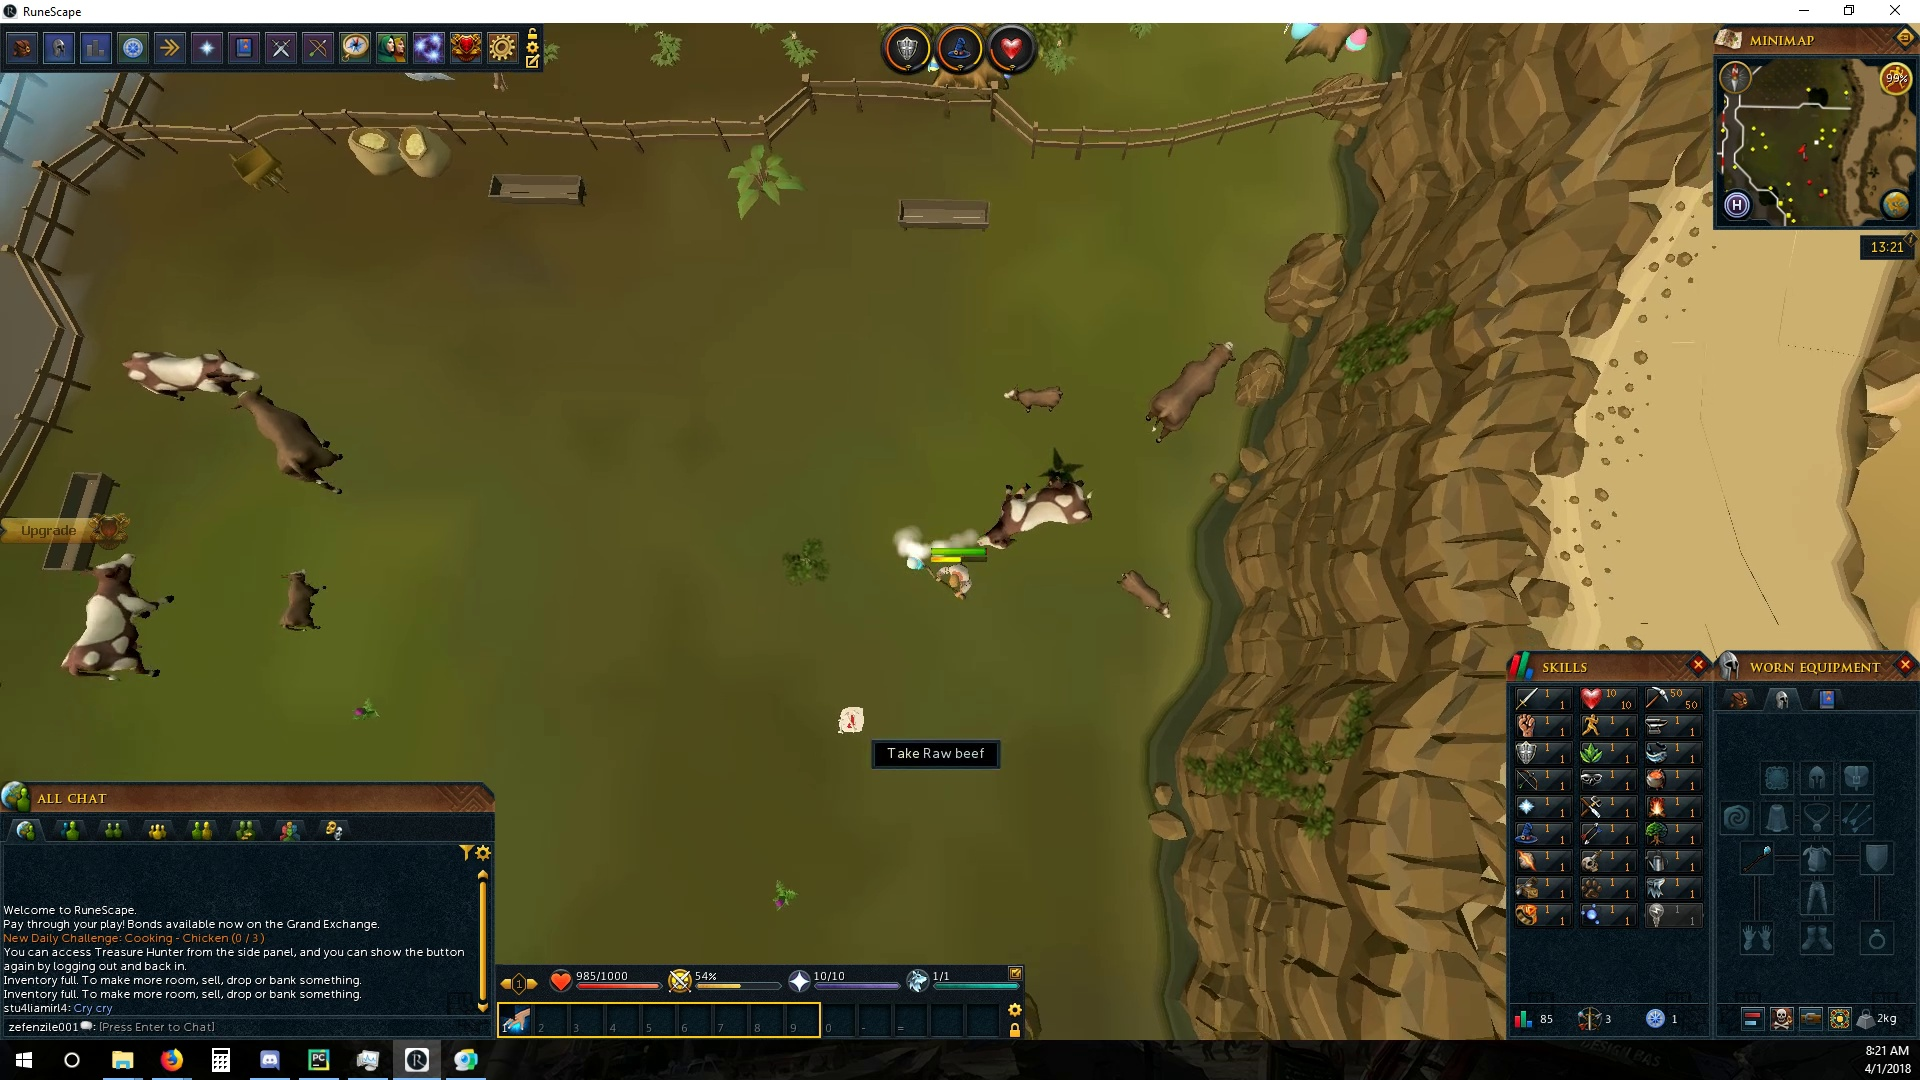calf: (274, 566, 328, 636), (1110, 568, 1176, 621), (996, 384, 1068, 415)
cow: (59, 547, 175, 690), (229, 384, 344, 497), (1143, 338, 1238, 448), (975, 473, 1100, 556), (124, 345, 265, 402)
cow_drop: (833, 705, 870, 733)
